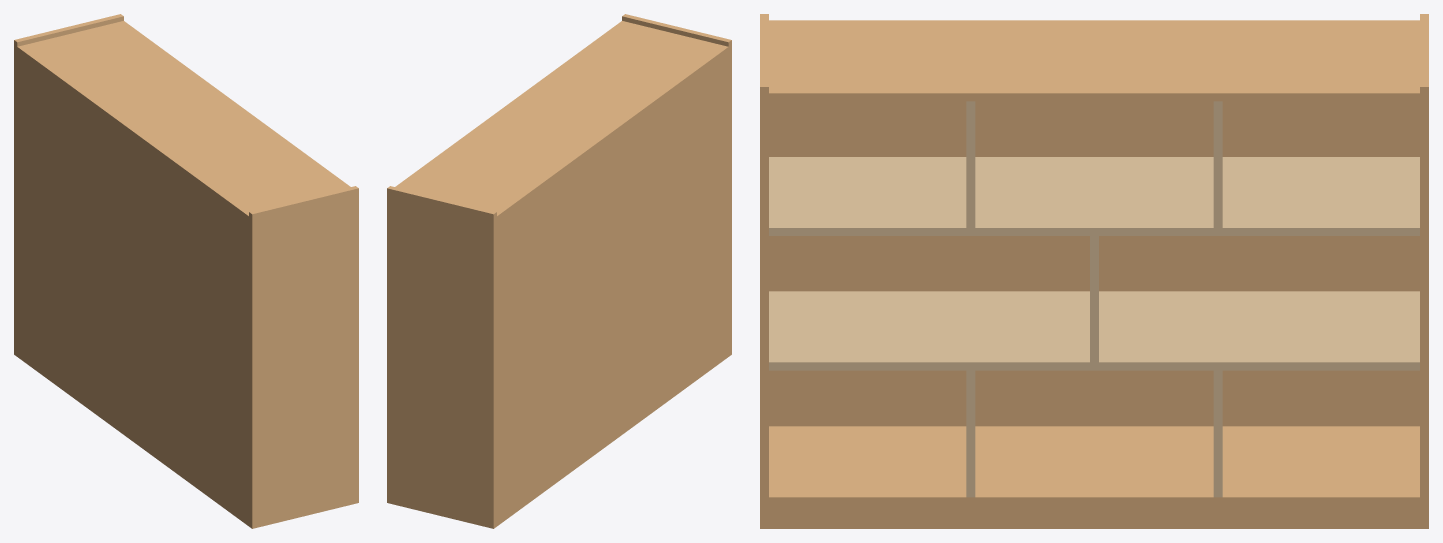
File: bookshelf.glb
3 views of the same model, side by side, from view 1: azimuth 30°, elevation 25°; view 2: azimuth 150°, elevation 25°; view 3: azimuth 270°, elevation 25° (orthographic). The views are drawn at different scales.
Visible parts, largest first — view 1: Book Shelf; view 2: Book Shelf; view 3: Book Shelf.
Boxes of the visible parts, x1,y1,x2,y2 form: Book Shelf: [14, 14, 358, 528]; Book Shelf: [387, 14, 731, 528]; Book Shelf: [760, 14, 1428, 528].
Size of the model in its own units: 0.7752 by 2.19 by 3.
